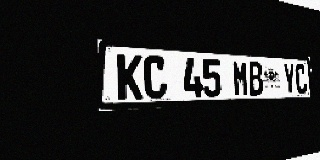4: (183, 57, 203, 98)
5: (203, 59, 222, 97)
B: (248, 61, 264, 96)
C: (143, 55, 167, 99), (295, 64, 307, 94)
K: (117, 54, 143, 100)
M: (232, 60, 249, 96)
Y: (283, 63, 296, 95)
